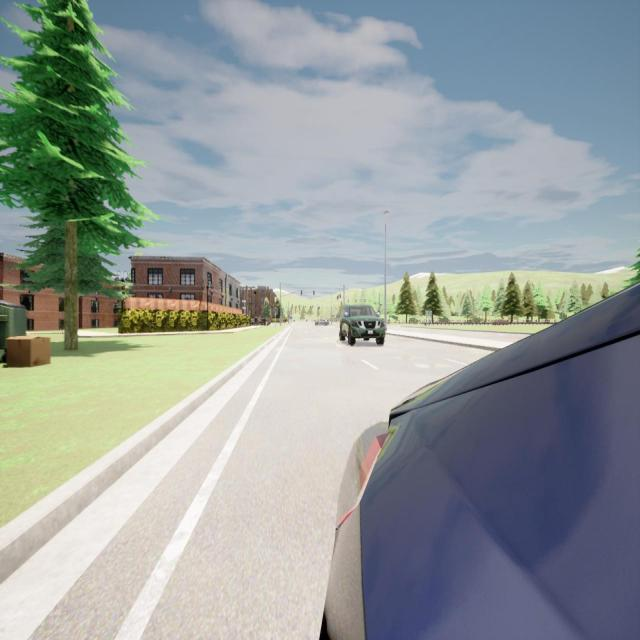Traffic_Signs: (273, 308, 278, 315)
Vehicle: (325, 284, 639, 638), (338, 304, 386, 346), (314, 318, 330, 326)
traffic_light: (313, 290, 315, 296), (300, 290, 302, 295), (337, 295, 339, 299), (340, 294, 341, 298), (337, 296, 337, 300)
